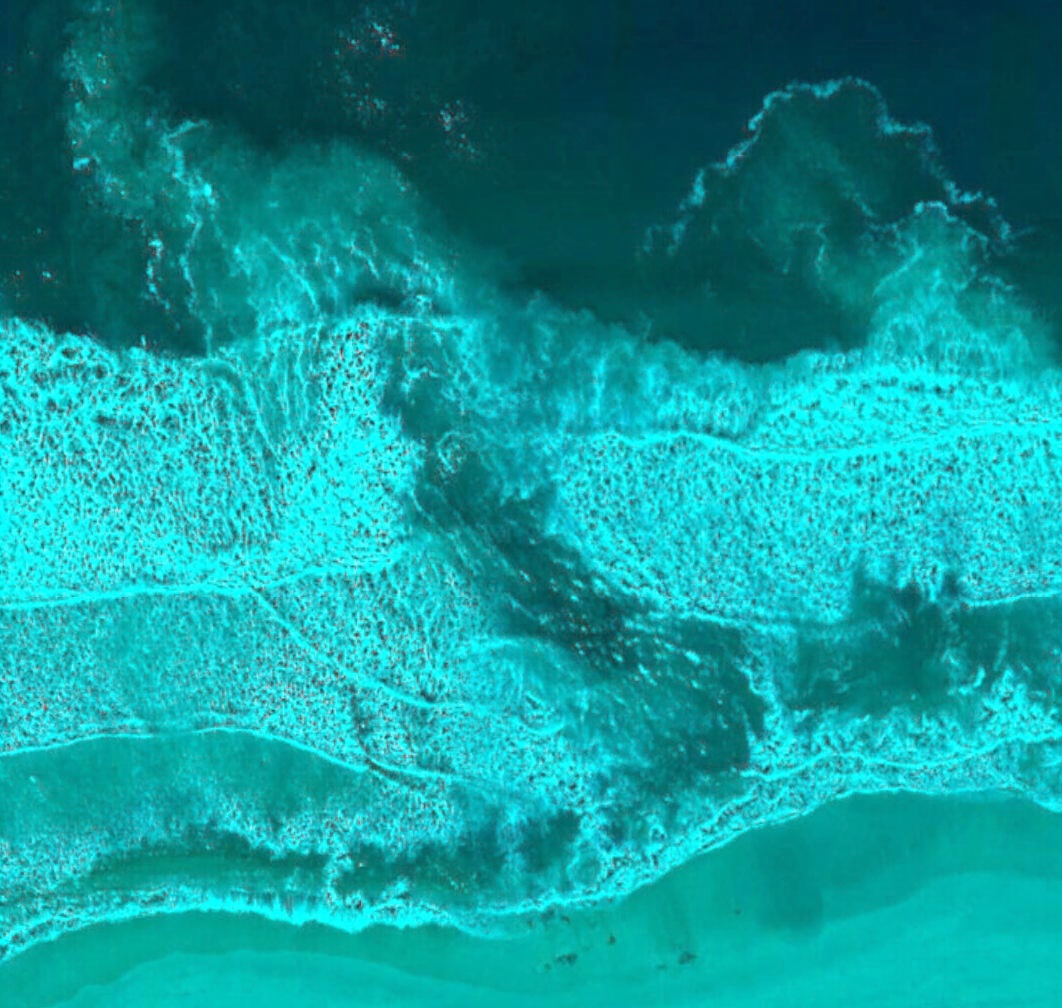rip_current: (173, 146, 729, 764)
